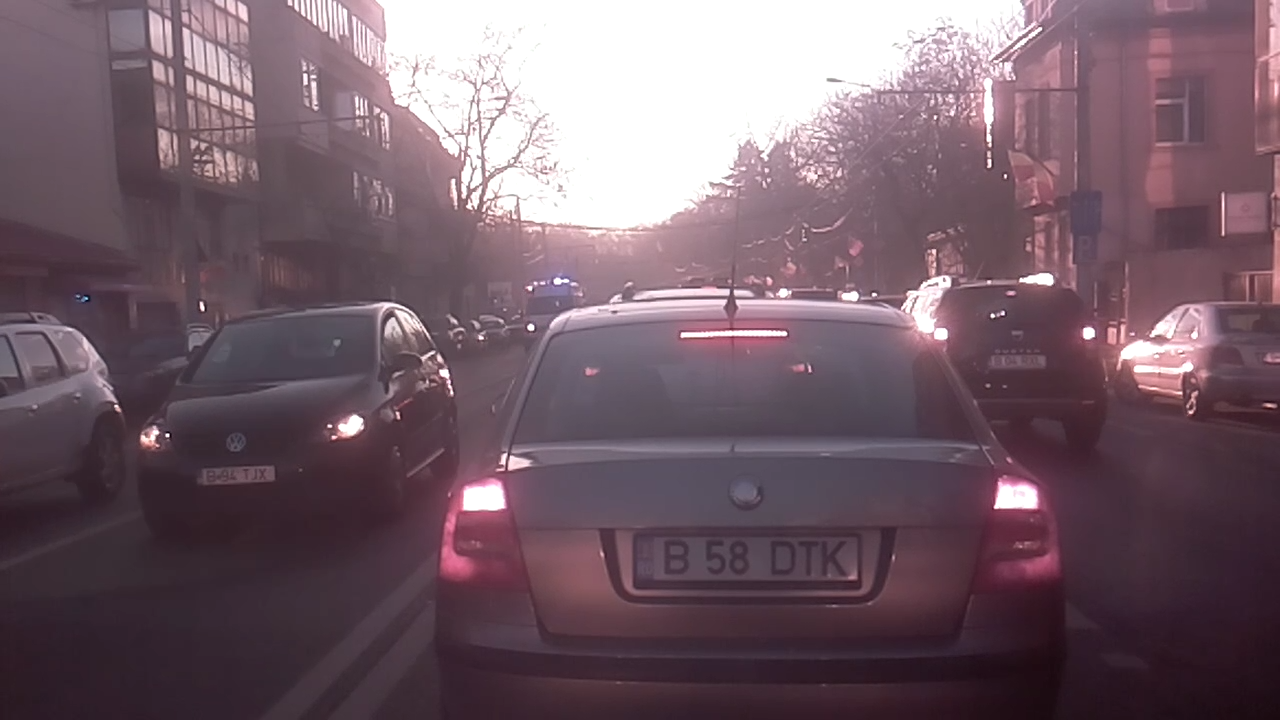license-plate: (625, 525, 868, 591), (193, 461, 279, 490)
